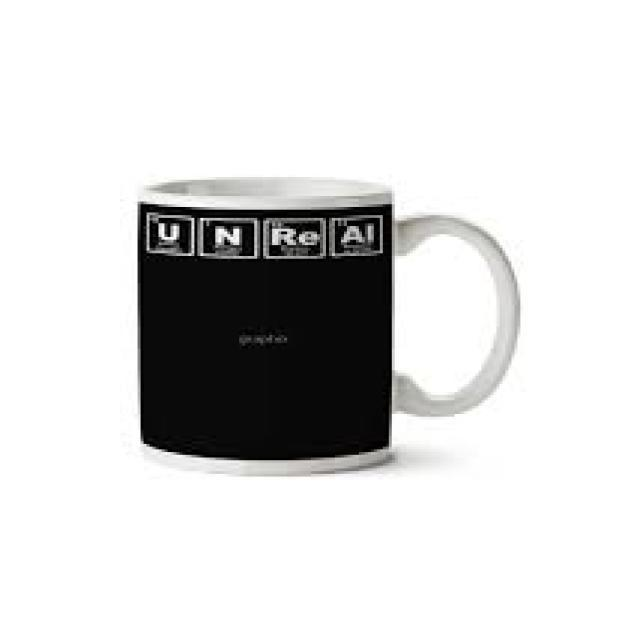taza: (135, 174, 521, 476)
